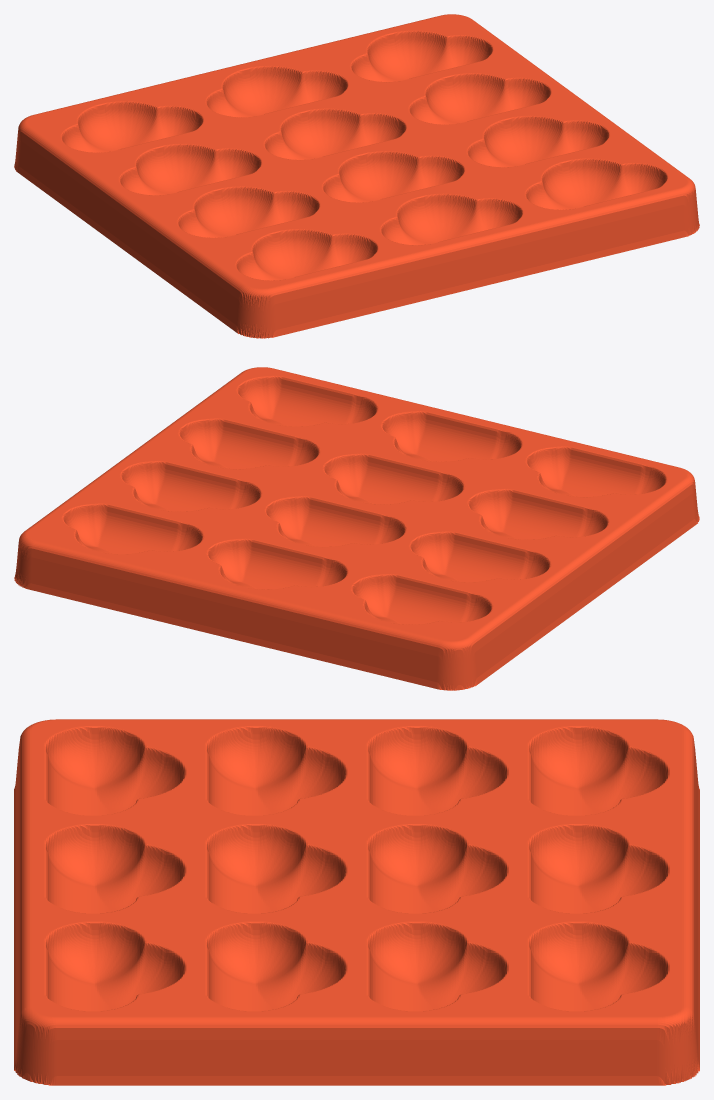
The model's file is mold.glb.
3 views of the same model, one above another, from view 1: azimuth 30°, elevation 25°; view 2: azimuth 150°, elevation 25°; view 3: azimuth 270°, elevation 25° (orthographic). The views are drawn at different scales.
Parts seen in each view (by area): view 1: geometry_0; view 2: geometry_0; view 3: geometry_0.
Boxes of the visible parts, x1,y1,x2,y2 form: geometry_0: [14, 14, 699, 338]; geometry_0: [14, 367, 699, 690]; geometry_0: [14, 719, 699, 1085].
Bounding box in the file's own units: 0.1575 × 0.0145 × 0.1469.
